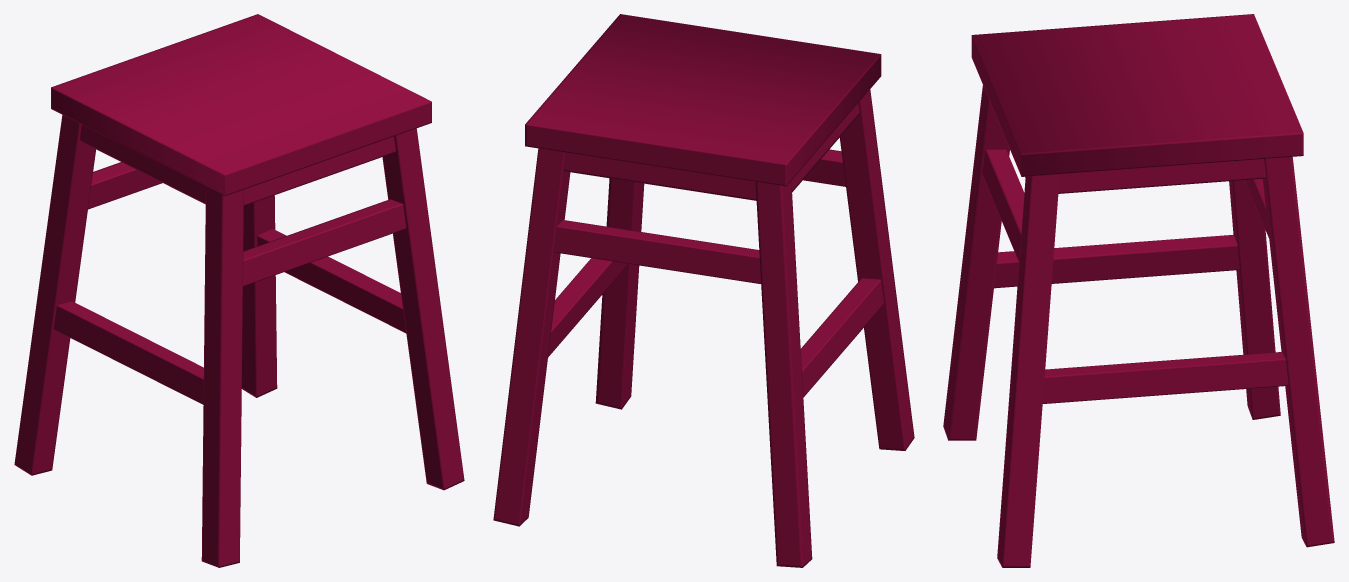
File: stool.fbx
The picture shows the model from 3 angles, left to right: view 1: azimuth 30°, elevation 25°; view 2: azimuth 150°, elevation 25°; view 3: azimuth 270°, elevation 25°; orthographic projection. The views are drawn at different scales.
Parts seen in each view (by area): view 1: stool; view 2: stool; view 3: stool.
Boxes of the visible parts, left/top/right/bottom form: stool: left=14, top=14, right=464, bottom=567; stool: left=493, top=14, right=914, bottom=567; stool: left=943, top=14, right=1334, bottom=567.
Size of the model in its own units: 42.53 by 48.43 by 42.35.
